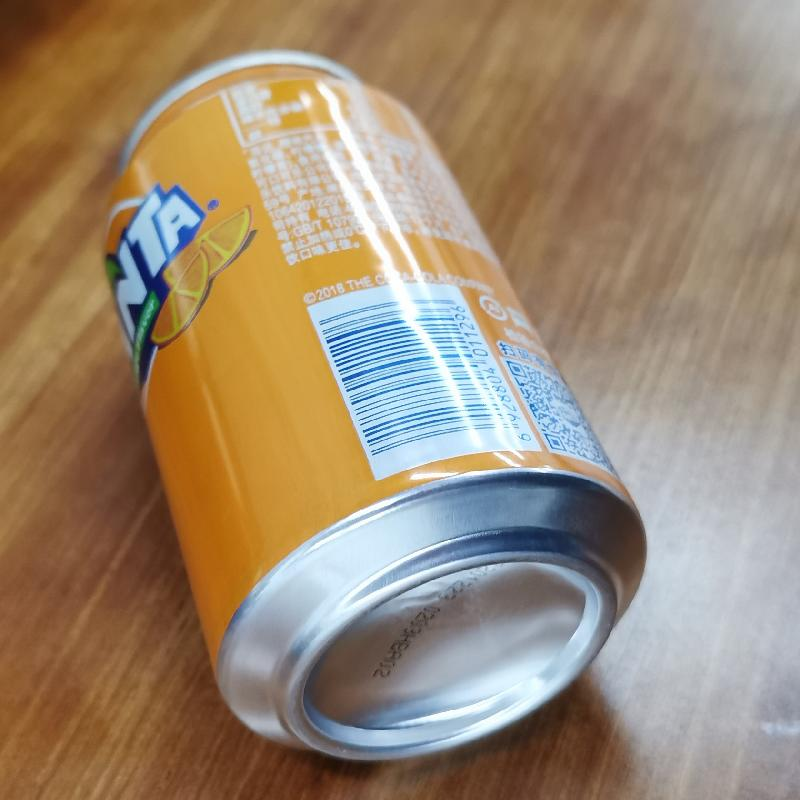cans: (91, 47, 650, 800)
